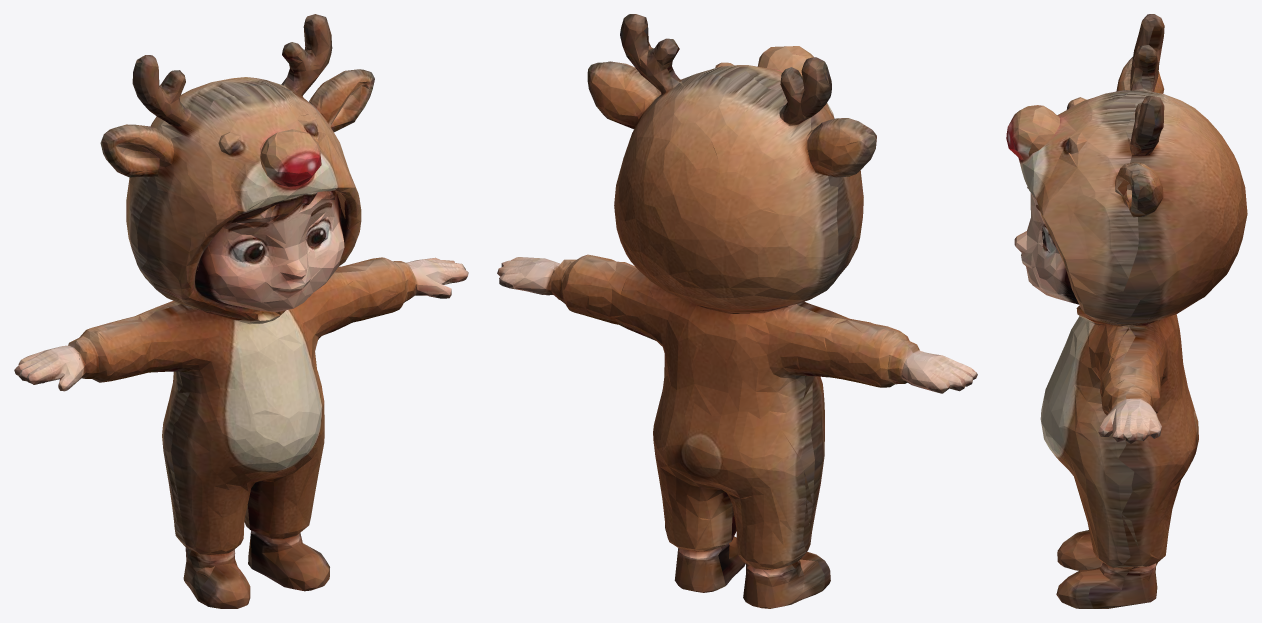
The model's file is v_reindeer.glb.
3 views of the same model, side by side, from view 1: azimuth 30°, elevation 25°; view 2: azimuth 150°, elevation 25°; view 3: azimuth 270°, elevation 25° (orthographic). The views are drawn at different scales.
Visible parts, largest first — view 1: geometry_0; view 2: geometry_0; view 3: geometry_0.
Part boxes in pixels (left/top/right/bottom): geometry_0: left=14, top=14, right=468, bottom=608; geometry_0: left=497, top=14, right=977, bottom=608; geometry_0: left=1006, top=14, right=1247, bottom=608.
Size of the model in its own units: 0.8794 by 1 by 0.4157.
Materials: 1 (1 with a texture image).
